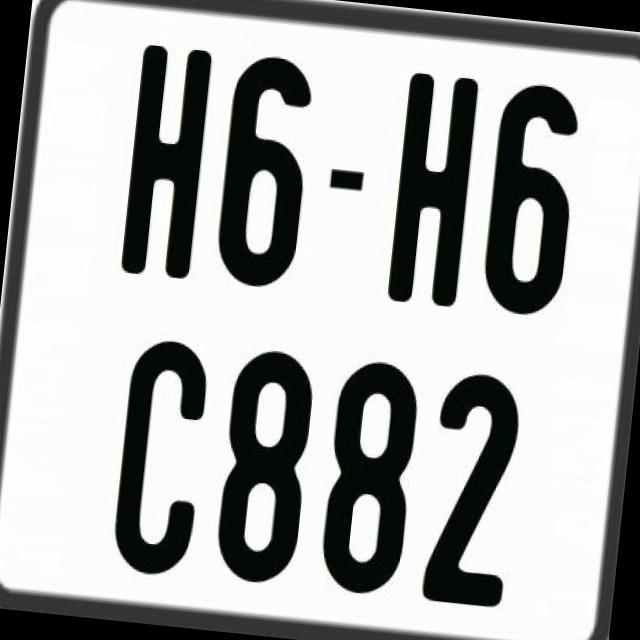2: (416, 366, 526, 606)
6: (479, 80, 587, 322), (212, 54, 318, 290)
8: (208, 347, 320, 588), (316, 354, 426, 599)
C: (108, 338, 216, 588)
H: (116, 40, 218, 286), (383, 68, 482, 312)
